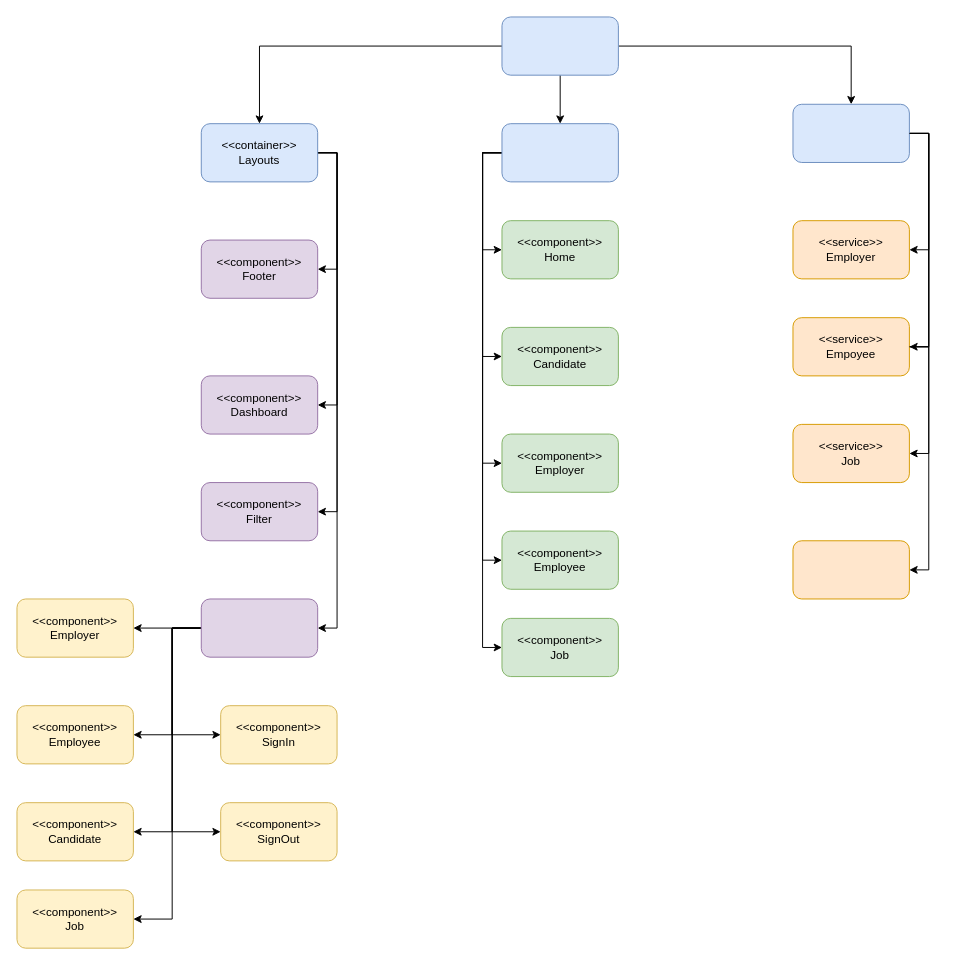
Some shapes in this 954 by 973 pixel diagram are drawn without their labels. Here are the shapes that lost their labels. From the top down, the box of each, then its label:
(501, 16, 618, 75): <<container>> App
(501, 123, 618, 182): <<container>> Pages
(792, 103, 909, 162): <<container>> Services
(792, 540, 909, 599): <<service>> Candidate
(200, 598, 318, 657): <<component>> Navbar
